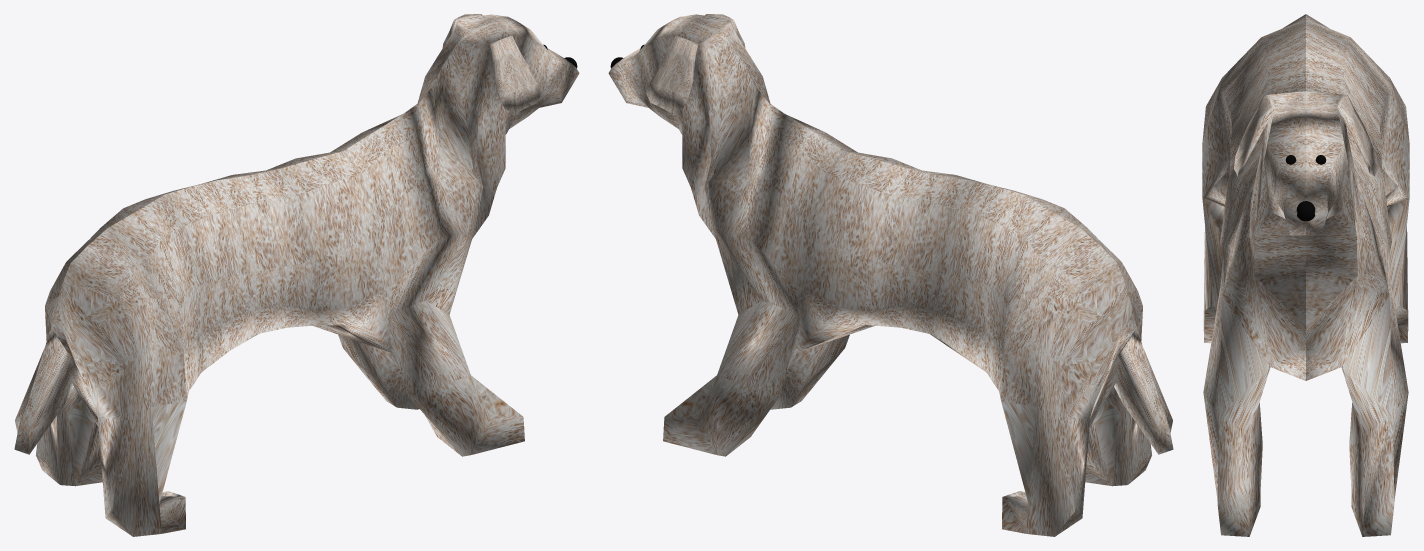
File: Dog.glb
The picture shows the model from 3 angles, left to right: view 1: azimuth 30°, elevation 25°; view 2: azimuth 150°, elevation 25°; view 3: azimuth 270°, elevation 25°; orthographic projection. The views are drawn at different scales.
Parts seen in each view (by area): view 1: Plane; view 2: Plane; view 3: Plane, Sphere.
Boxes of the visible parts, left/top/right/bottom form: Plane: left=14, top=14, right=579, bottom=536; Plane: left=608, top=14, right=1173, bottom=536; Plane: left=1202, top=14, right=1409, bottom=536; Sphere: left=1296, top=201, right=1315, bottom=221.
Bounding box in the file's own units: 4.83 × 3.2 × 1.37.
Materials: 4 (1 with a texture image).
